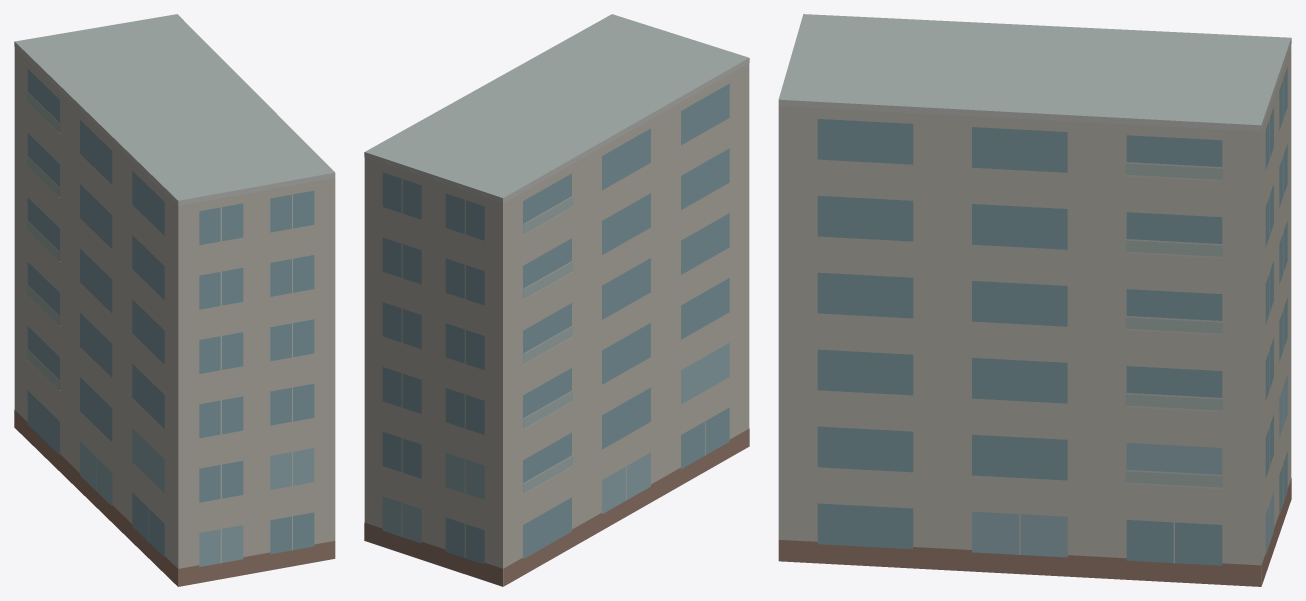
File: survey-upis-33014537.glb
3 views of the same model, side by side, from view 1: azimuth 30°, elevation 25°; view 2: azimuth 150°, elevation 25°; view 3: azimuth 270°, elevation 25° (orthographic). The views are drawn at different scales.
Parts seen in each view (by area): view 1: survey-upis-33014537.tmp; view 2: survey-upis-33014537.tmp; view 3: survey-upis-33014537.tmp.
Boxes of the visible parts, x1,y1,x2,y2 form: survey-upis-33014537.tmp: (14, 14, 335, 586); survey-upis-33014537.tmp: (364, 14, 749, 586); survey-upis-33014537.tmp: (778, 14, 1291, 586).
Bounding box in the file's own units: 9.48 × 18.3 × 18.44.
